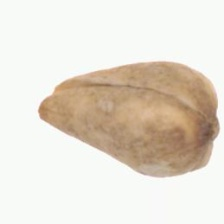L1: (36, 76, 70, 128), (201, 104, 220, 152)
L2: (37, 60, 220, 178)
